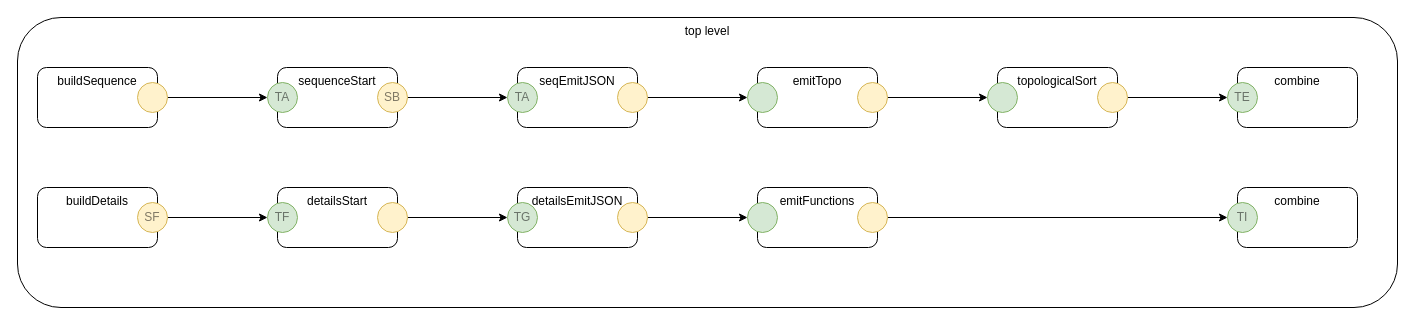
Some shapes in this 1415 by 325 pixel diagram are drawn without their labels. The centre of each missing label's shape, as x and y in pixels:
SA: pixel 152 97
SC: pixel 632 97
SD: pixel 872 97
SE: pixel 1112 97
SG: pixel 392 217
SH: pixel 632 217
SI: pixel 872 217
TC: pixel 762 97
TD: pixel 1002 97
TH: pixel 762 217
